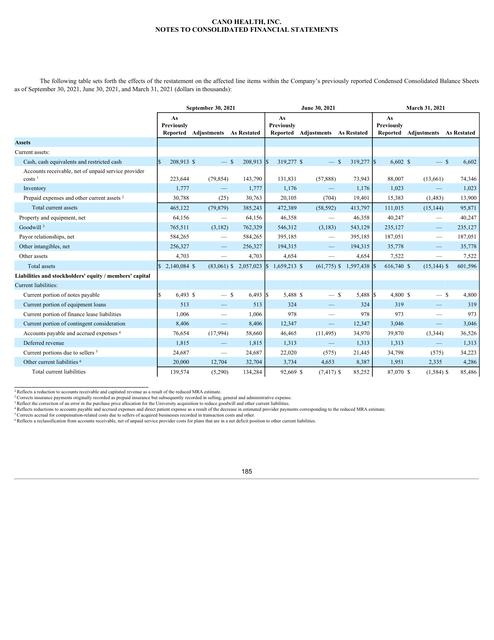box: (11, 104, 482, 381)
